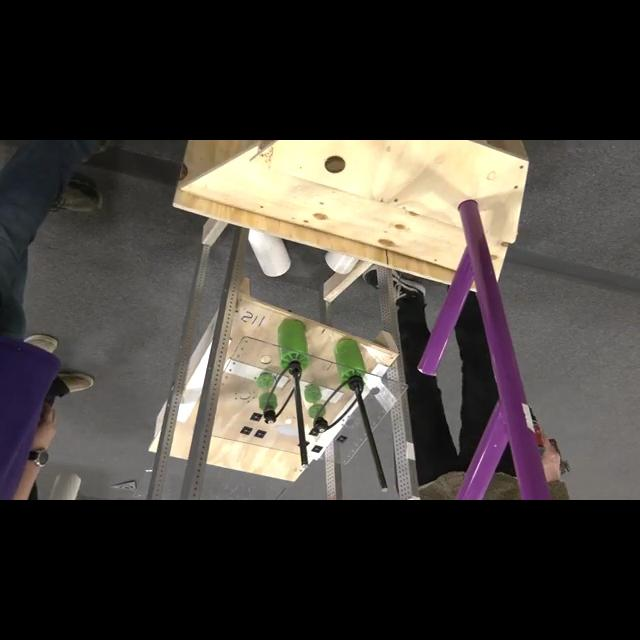CORAL: (246, 229, 290, 279), (326, 252, 358, 274)
